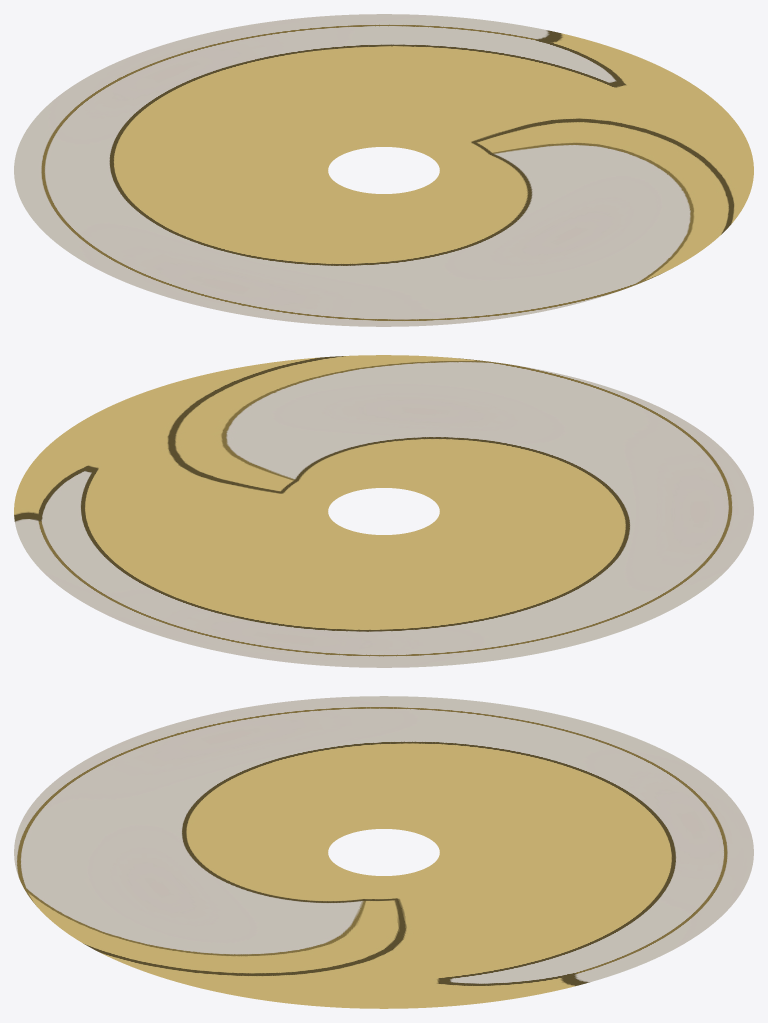
Rendered from effect2.fbx.
3 renders of one model, top to bottom at view 1: azimuth 30°, elevation 25°; view 2: azimuth 150°, elevation 25°; view 3: azimuth 270°, elevation 25°, orthographic.
Visible parts, largest first — view 1: pTorus3; view 2: pTorus3; view 3: pTorus3.
Boxes of the visible parts, x1,y1,x2,y2 form: pTorus3: (14,14,753,326); pTorus3: (14,355,753,667); pTorus3: (14,696,753,1008).
Size of the model in its own units: 0.5511 by 2.85e-09 by 0.5511.
1 material, 1 textured.
